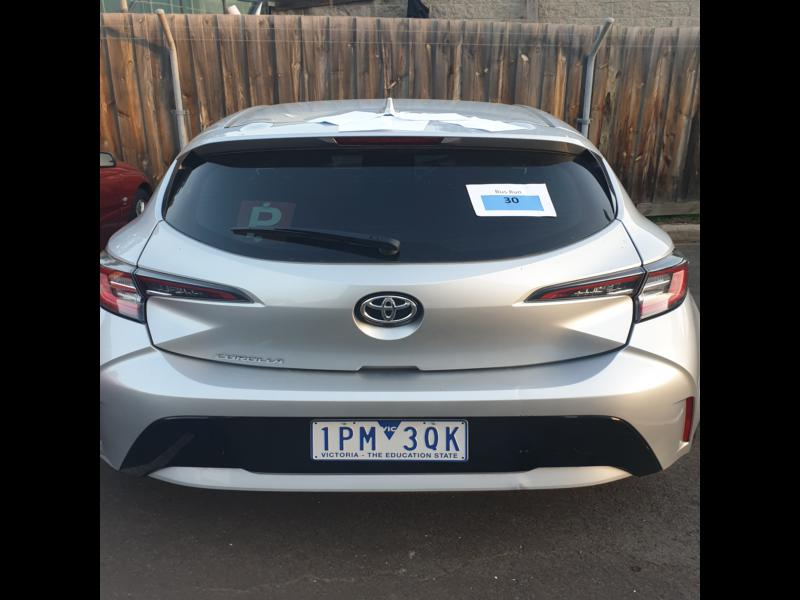BusRun: (480, 193, 544, 211)
PlateNo: (311, 421, 470, 459)
